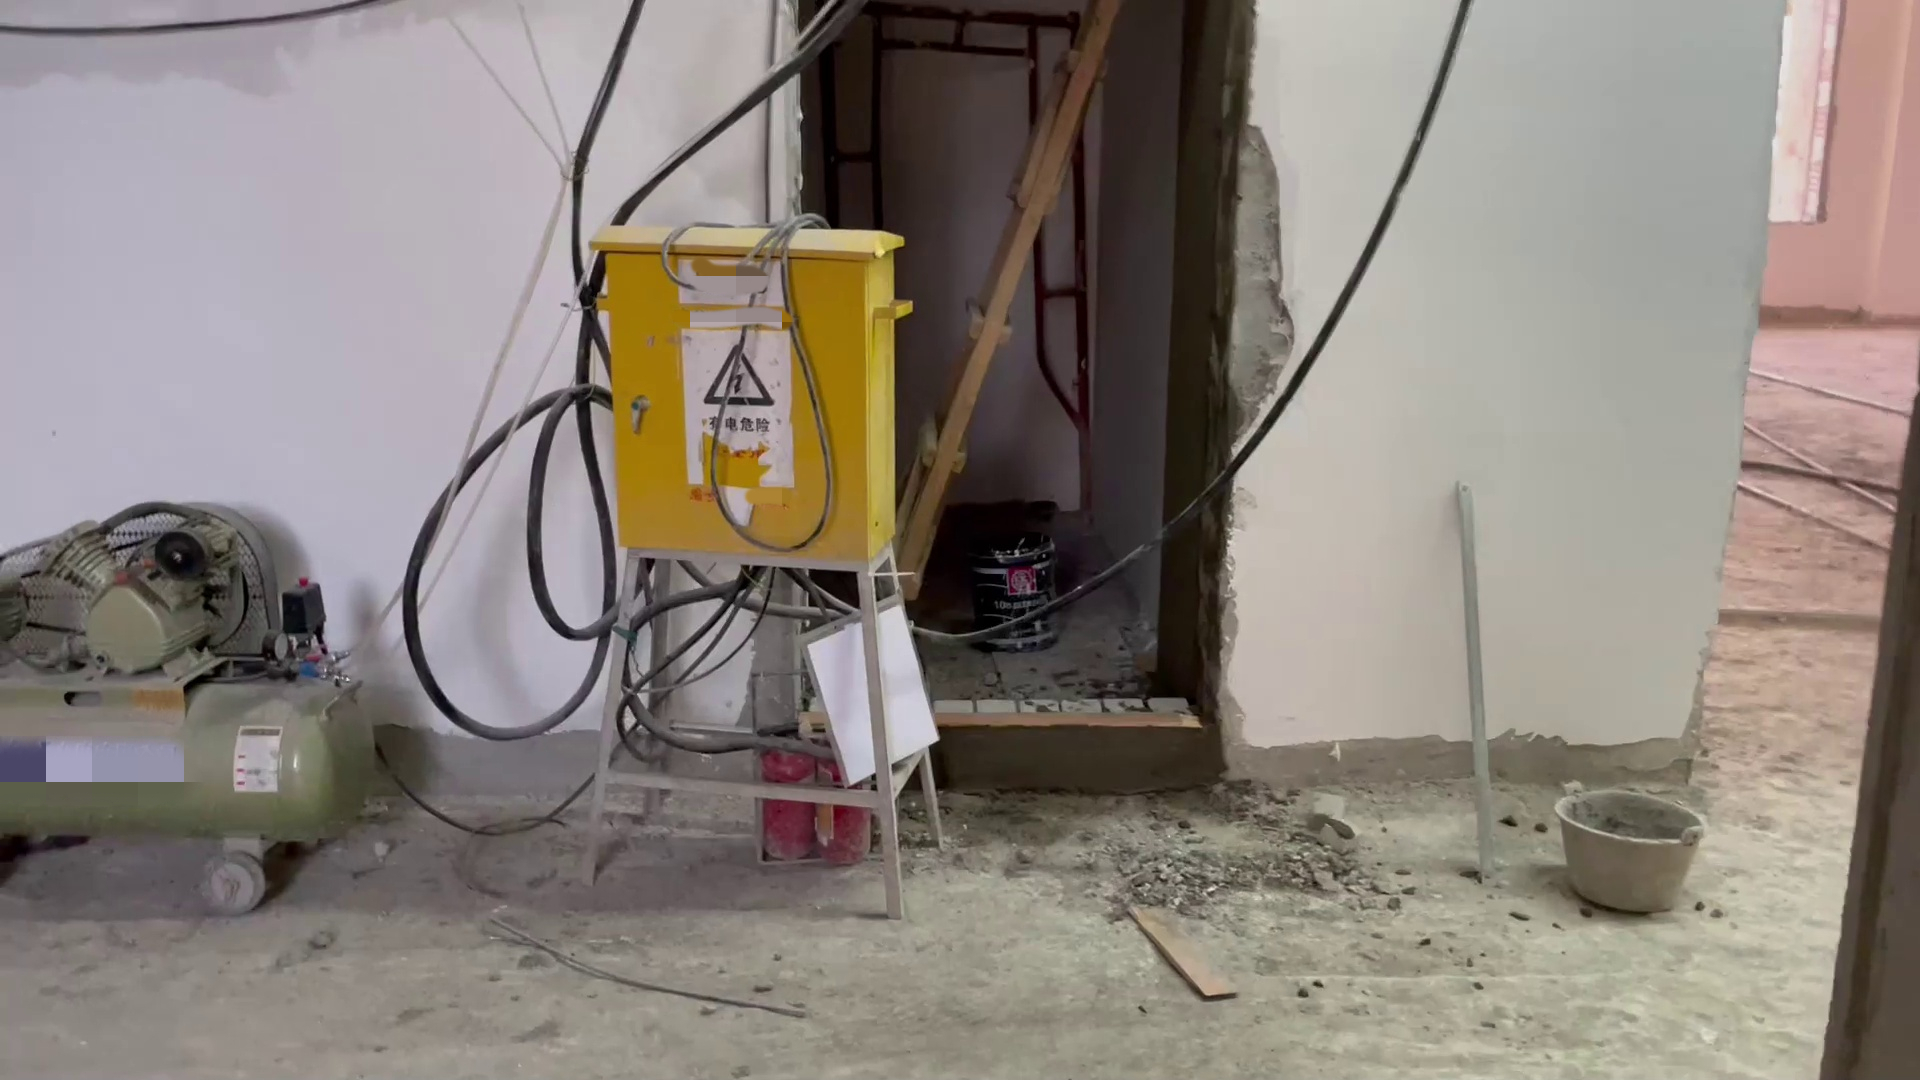ebox: (595, 206, 953, 919)
